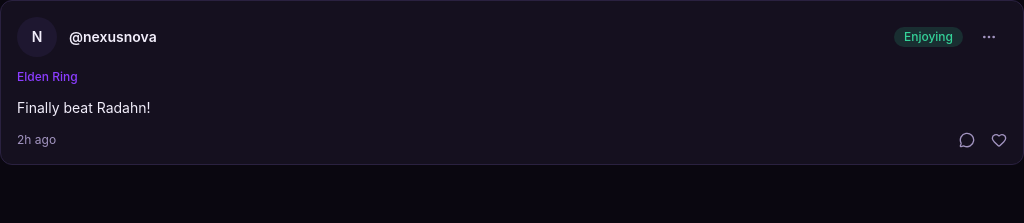
Test: PostCard — delete confirm › Cancel in confirm mode returns to read state
Click the button named "post options".
click(989, 37)  # box x1=971 y1=19 x2=1007 y2=55
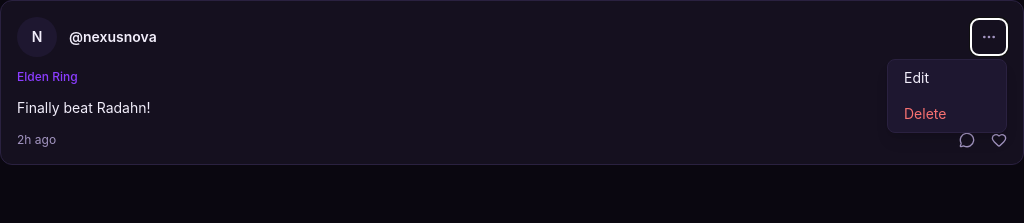
Click the button "Delete".
click(947, 114)  # box x1=888 y1=96 x2=1006 y2=132
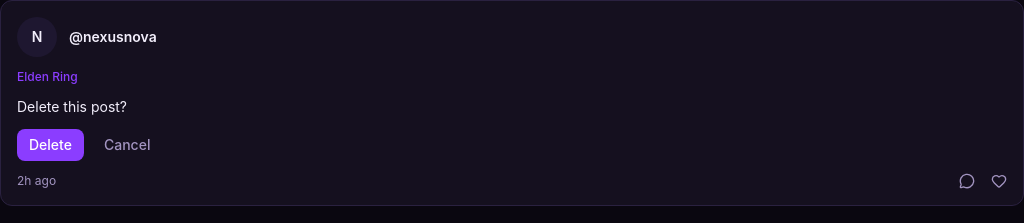
Click the button "Cancel".
click(127, 145)  # box x1=92 y1=129 x2=162 y2=161
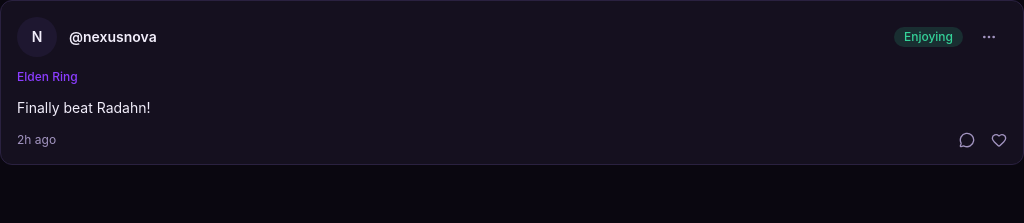
Result: the text "Delete this post" is gone
Result: the text "Finally beat Radahn!" is shown at x1=17 y1=99 x2=150 y2=116
